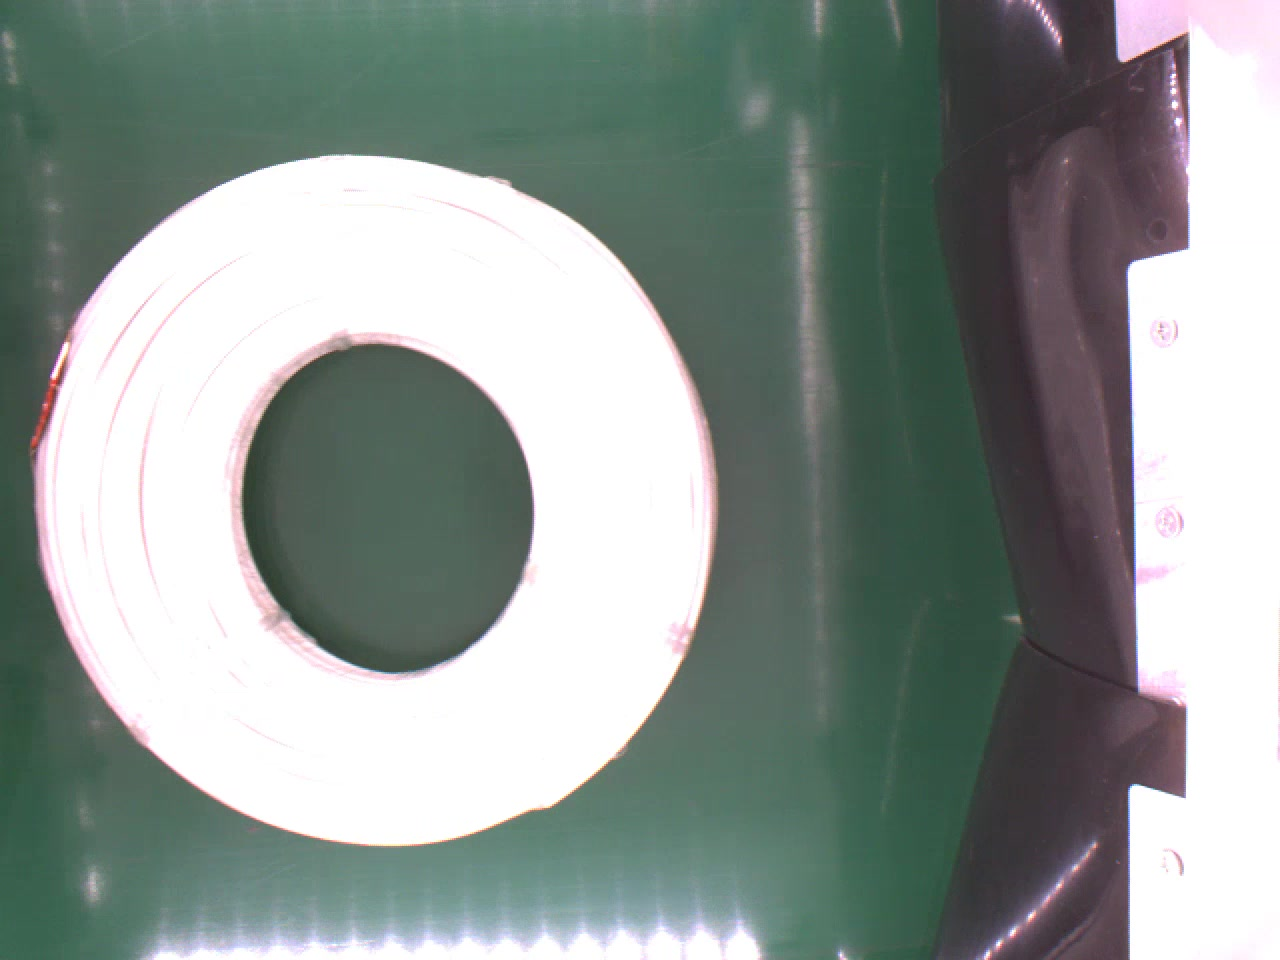white: (30, 150, 720, 849)
